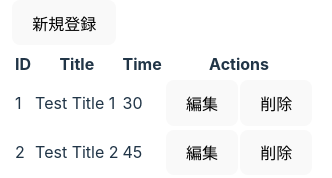
RecordList コンポーネント › 削除ボタンが動作し、リストからアイテムが削除されることを確認する
Expected: the text "Test Title 1" is shown, x1=34 y1=79 x2=120 y2=127
// 削除ボタンをクリック
Click the button with test id "Delete" in the row of "Test Title 1": coordinates (276, 103) x1=240 y1=80 x2=312 y2=126
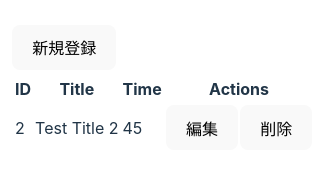
Expected: the text "Test Title 1" is gone
